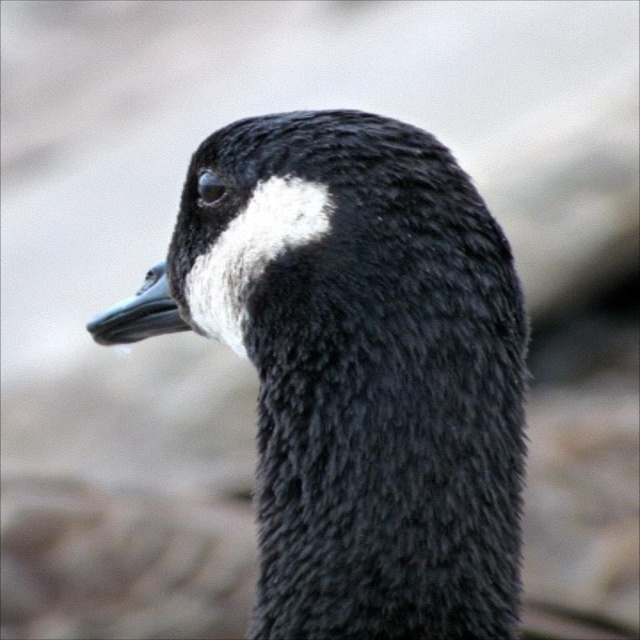Duck: (86, 108, 532, 640)
